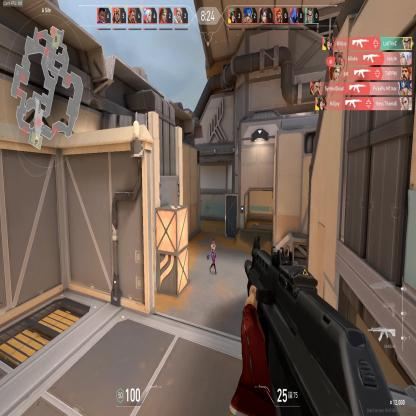enemy: (208, 237, 218, 276)
